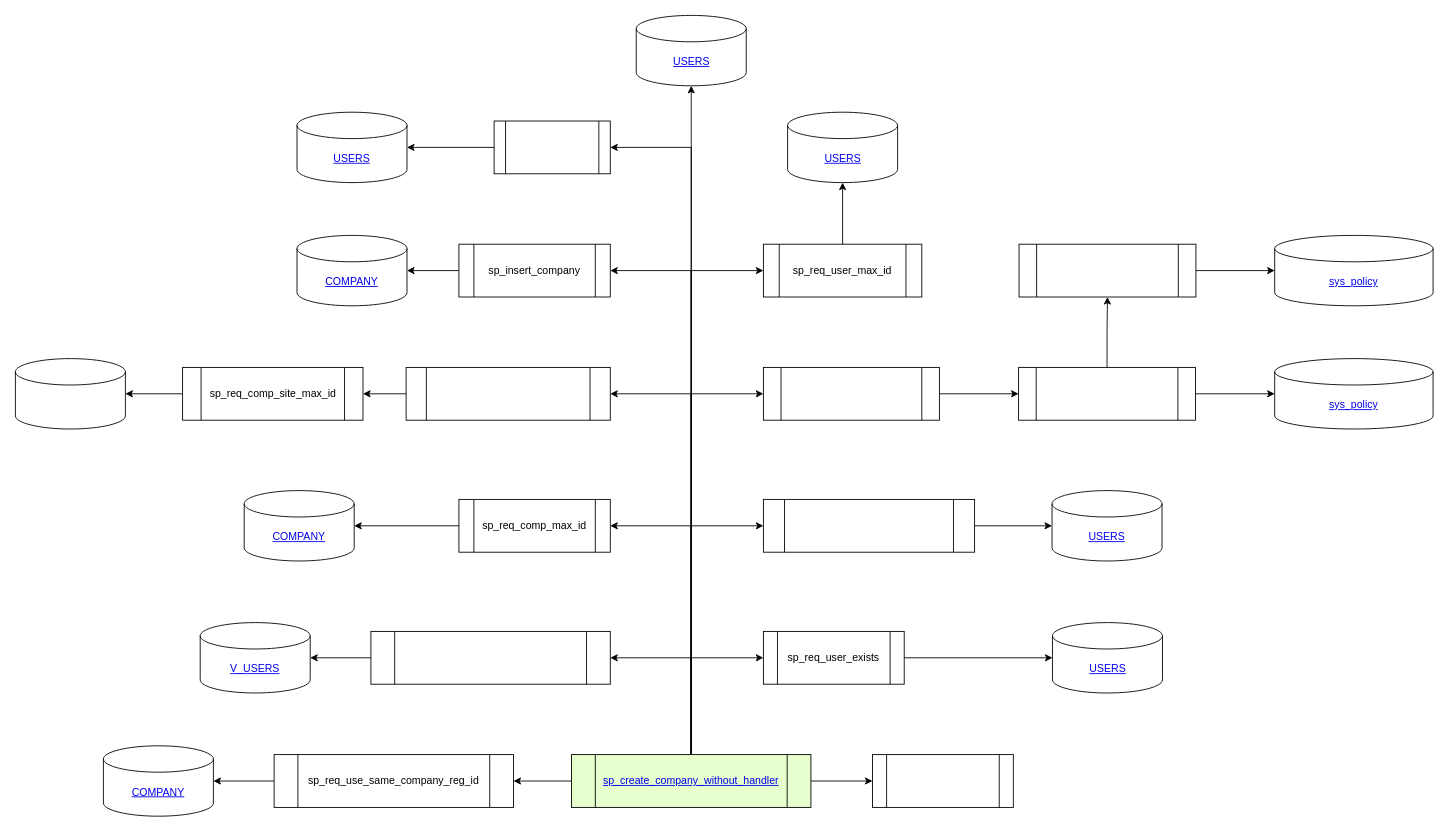
Image size: 1448x832. Some labels were removed from this diagram. The shapes that lost their labels are listed below. From the top down, each one's centre as x and y in pixels, then its label:
the point at 551,147: sp_insert_user
the point at 1107,270: sp_req_policy_exists
the point at 70,393: COMP_SITE
the point at 507,393: sp_create_site_without_handler
the point at 851,393: sp_req_use_same_phone
the point at 1106,393: sp_req_policy_direction
the point at 869,525: sp_req_user_regid_by_user_id
the point at 490,657: sp_member_admin_account_exists
the point at 942,780: sp_req_current_time
